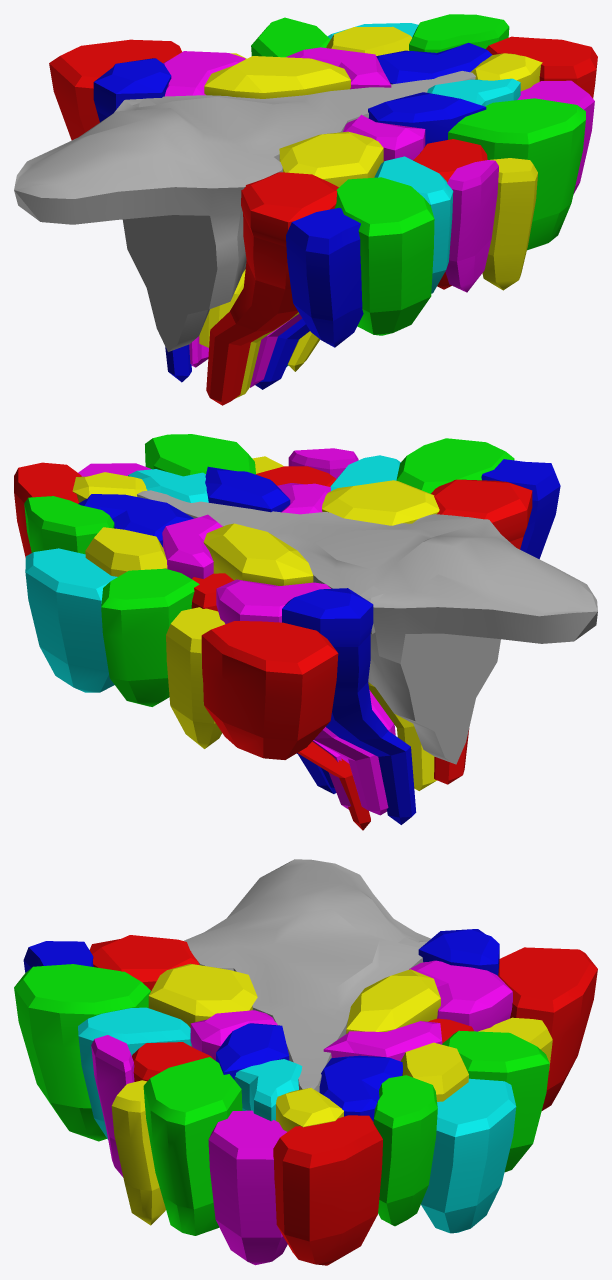
Rendered from cliff full.fbx.
3 views of the same model, one above another, from view 1: azimuth 30°, elevation 25°; view 2: azimuth 150°, elevation 25°; view 3: azimuth 270°, elevation 25° (orthographic). The views are drawn at different scales.
Parts seen in each view (by area): view 1: pPlane1, polySurface12, polySurface21, polySurface16, polySurface24, polySurface1, polySurface31, polySurface20, polySurface17, polySurface8, polySurface14, polySurface6 (+13 smaller); view 2: pPlane1, polySurface31, polySurface6, polySurface26, polySurface28, polySurface8, polySurface4, polySurface30, polySurface12, polySurface1, polySurface21, polySurface25 (+15 smaller); view 3: pPlane1, polySurface22, polySurface21, polySurface16, polySurface26, polySurface23, polySurface31, polySurface25, polySurface28, polySurface8, polySurface17, polySurface4 (+15 smaller).
Part boxes in pixels (x1,y1,x2,y2): pPlane1: (14,71,475,351); polySurface12: (206,172,338,405); polySurface21: (334,177,434,335); polySurface16: (448,98,585,250); polySurface24: (286,207,363,347); polySurface1: (199,56,350,347); polySurface31: (49,39,181,140); polySurface20: (445,160,498,292); polySurface17: (482,158,537,290); polySurface8: (235,131,383,398); polySurface14: (255,92,486,389); polySurface6: (93,58,191,382); pPlane1: (137,490,597,764); polySurface31: (201,621,338,759); polySurface6: (282,588,416,824); polySurface26: (25,548,117,692); polySurface28: (101,568,199,706); polySurface8: (322,480,439,790); polySurface4: (216,579,388,815); polySurface30: (166,607,224,748); polySurface12: (431,479,532,784); polySurface1: (203,523,313,585); polySurface21: (396,438,514,493); polySurface25: (24,496,114,554); pPlane1: (184,859,430,1092); polySurface22: (273,1115,382,1265); polySurface21: (14,964,150,1141); polySurface16: (143,1057,242,1235); polySurface26: (421,1078,516,1233); polySurface23: (208,1110,287,1265); polySurface31: (498,947,597,1110); polySurface25: (373,1075,437,1226); polySurface28: (442,1030,549,1172); polySurface8: (148,963,257,1046); polySurface17: (111,1080,165,1225); polySurface4: (409,960,512,1031).
Bounding box in the file's own units: 8.09 × 3.94 × 6.65.
